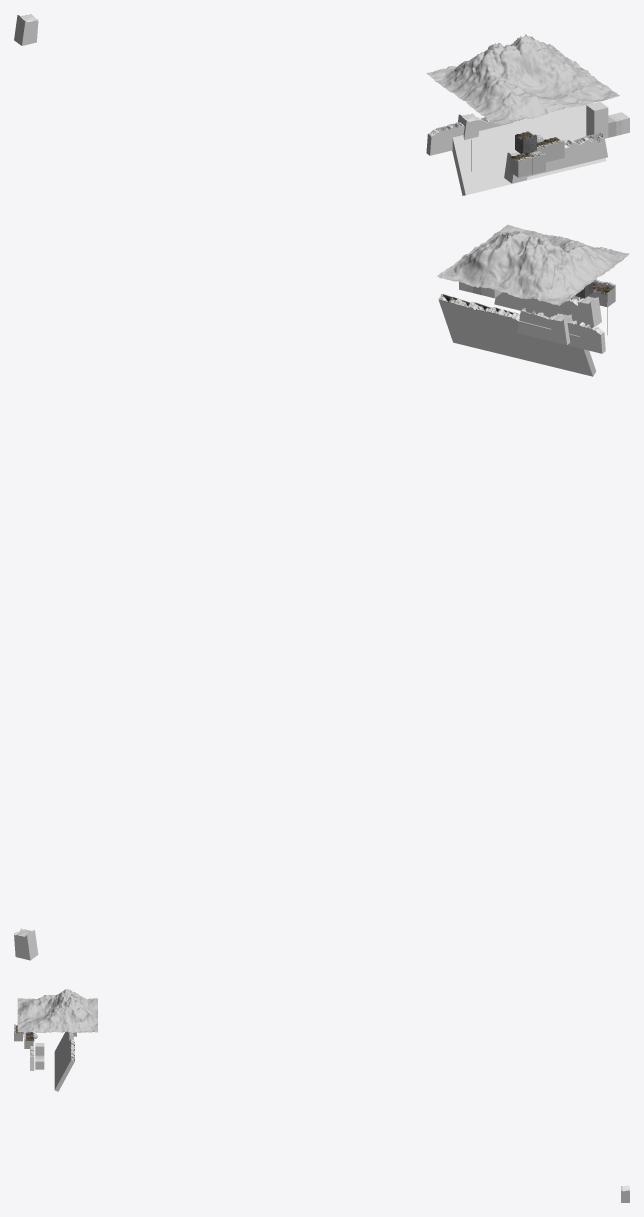
Rendered from wall2.fbx.
The picture shows the model from 3 angles, top to bottom: view 1: azimuth 30°, elevation 25°; view 2: azimuth 150°, elevation 25°; view 3: azimuth 270°, elevation 25°; orthographic projection. The views are drawn at different scales.
Visible parts, largest first — view 1: Landscape, Floor, Wall, Wall.001, Cube.001, Collumn.001, Cube.007, Cube, Collumn.002, Cube.005, Cube.002, Cube.006 (+1 smaller); view 2: Landscape, Floor, Wall.001, Wall; view 3: Landscape, Floor.
Boxes of the visible parts, box(x1,y1,x2,y2) form: Landscape: box(426, 34, 619, 124); Floor: box(452, 102, 606, 195); Wall: box(527, 132, 607, 176); Wall.001: box(426, 117, 513, 155); Cube.001: box(586, 102, 608, 138); Collumn.001: box(14, 14, 38, 45); Cube.007: box(510, 153, 531, 177); Cube: box(515, 131, 536, 153); Collumn.002: box(458, 113, 479, 139); Cube.005: box(543, 137, 564, 161); Cube.002: box(608, 112, 629, 135); Cube.006: box(525, 150, 545, 174); Landscape: box(437, 224, 629, 305); Floor: box(438, 294, 596, 376); Wall.001: box(517, 308, 605, 353); Wall: box(494, 292, 578, 322); Landscape: box(17, 989, 97, 1032); Floor: box(54, 1031, 74, 1091).
Size of the model in its own units: 1520 by 3127 by 8478.
